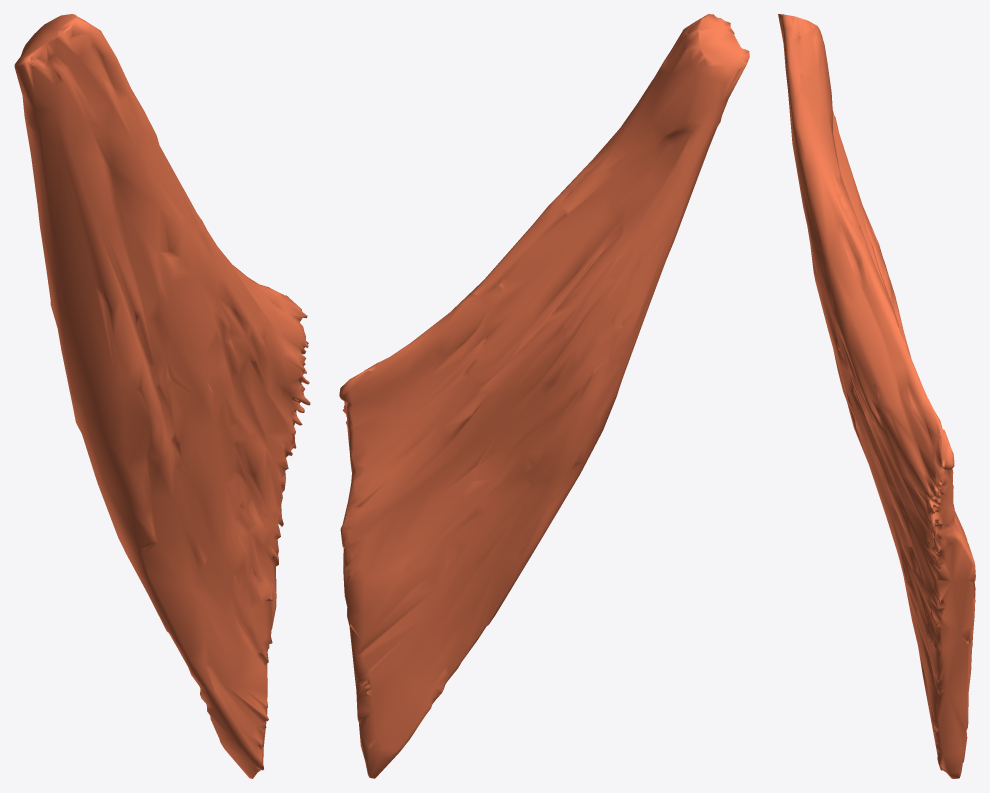
Rendered from Adductor_brevis.l_Generated_Mesh_From_X3D.1013.glb.
3 views of the same model, side by side, from view 1: azimuth 30°, elevation 25°; view 2: azimuth 150°, elevation 25°; view 3: azimuth 270°, elevation 25° (orthographic). The views are drawn at different scales.
Parts seen in each view (by area): view 1: Adductor_brevis.l_Generated_Mesh_From_X3D.1013; view 2: Adductor_brevis.l_Generated_Mesh_From_X3D.1013; view 3: Adductor_brevis.l_Generated_Mesh_From_X3D.1013.
Part boxes in pixels (x1,y1,x2,y2): Adductor_brevis.l_Generated_Mesh_From_X3D.1013: (14,14,310,778); Adductor_brevis.l_Generated_Mesh_From_X3D.1013: (339,14,749,778); Adductor_brevis.l_Generated_Mesh_From_X3D.1013: (778,14,975,778).
Size of the model in its own units: 0.0792 by 0.1763 by 0.0478.
